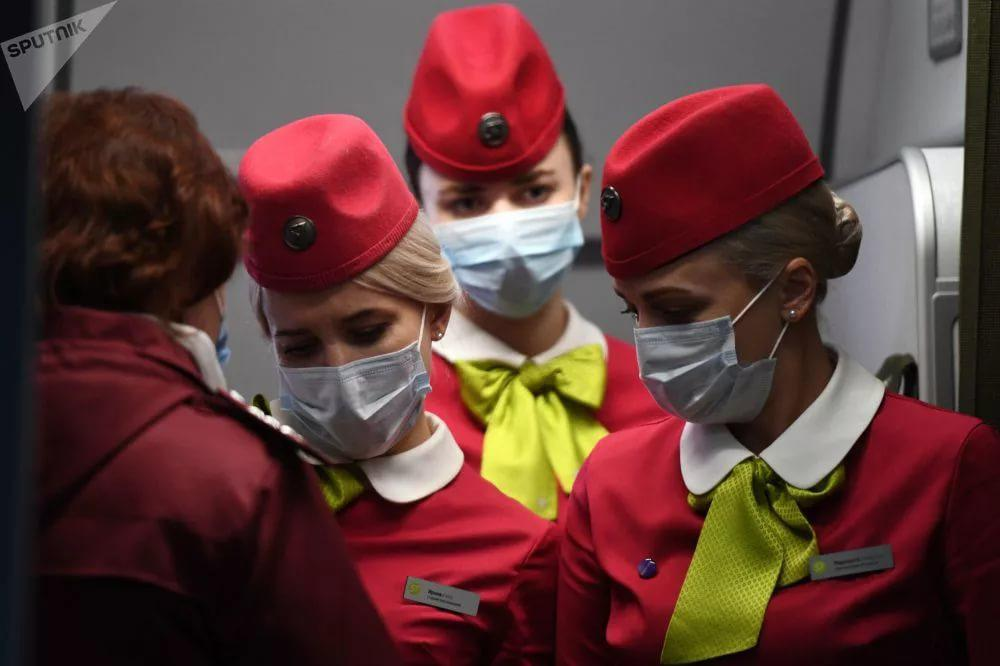mask: (429, 124, 591, 313), (268, 255, 430, 444), (621, 244, 783, 433)
